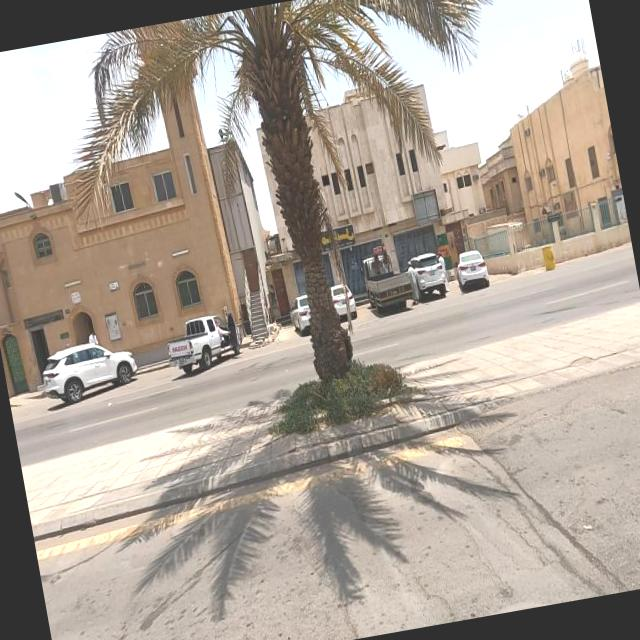debris: (385, 159, 470, 244)
